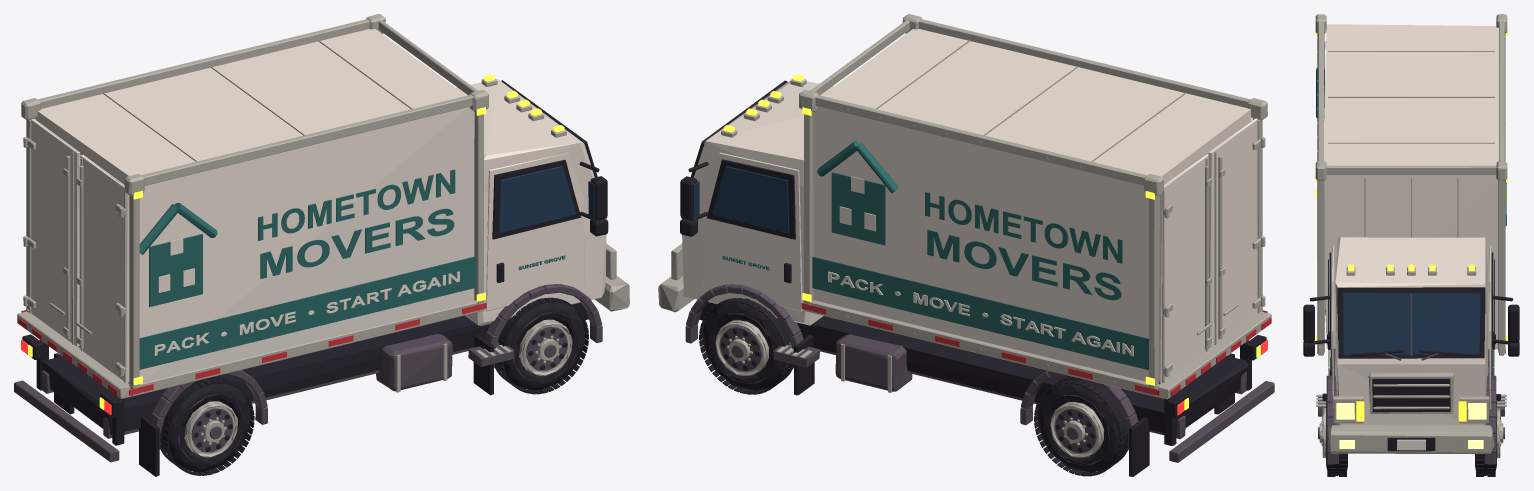
File: veh.box-truck.lod1.glb
3 views of the same model, side by side, from view 1: azimuth 30°, elevation 25°; view 2: azimuth 150°, elevation 25°; view 3: azimuth 270°, elevation 25° (orthographic). The views are drawn at different scales.
Visible parts, largest first — view 1: body, object 1, wheelRL, wheelFL; view 2: body, object 1, wheelRR, wheelFR; view 3: body, object 1, lightsFront, wheelFL, wheelFR.
Boxes of the visible parts, x1,y1,x2,y2 form: body: [14, 14, 629, 476]; object 1: [23, 74, 608, 385]; wheelRL: [160, 375, 254, 475]; wheelFL: [495, 297, 588, 394]; body: [658, 14, 1274, 476]; object 1: [680, 74, 1265, 385]; wheelRR: [1034, 376, 1128, 476]; wheelFR: [699, 298, 793, 394]; body: [1315, 14, 1507, 464]; object 1: [1303, 27, 1519, 408]; lightsFront: [1336, 401, 1486, 448]; wheelFL: [1318, 399, 1347, 476]; wheelFR: [1475, 399, 1504, 476].
Bounding box in the file's own units: 6.82 × 3.99 × 2.79.
